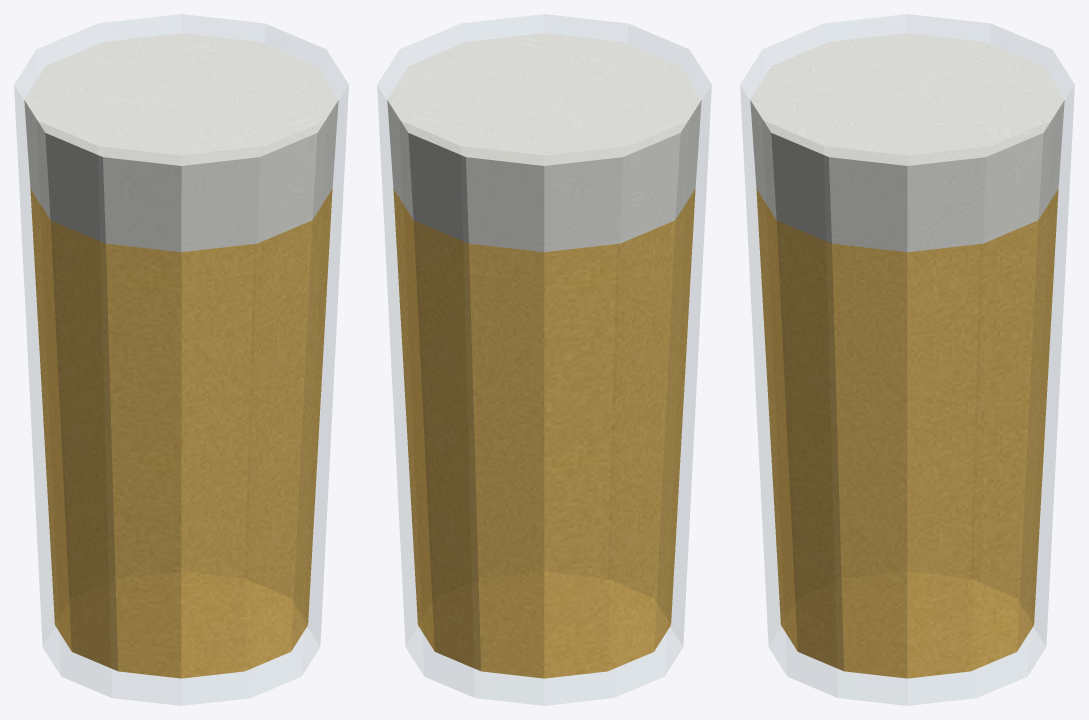
3 views of the same model, side by side, from view 1: azimuth 30°, elevation 25°; view 2: azimuth 150°, elevation 25°; view 3: azimuth 270°, elevation 25° (orthographic).
Visible parts, largest first — view 1: lager; view 2: lager; view 3: lager.
Part boxes in pixels (left/top/right/bottom): lager: left=14, top=14, right=348, bottom=705; lager: left=377, top=14, right=711, bottom=705; lager: left=740, top=14, right=1074, bottom=705.
Bounding box in the file's own units: 0.082 × 0.152 × 0.082.
Materials: 3 (3 with a texture image).
